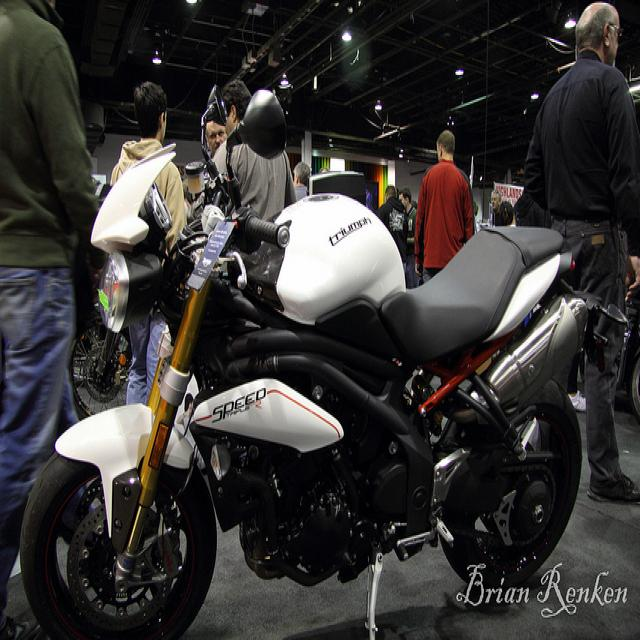motor: (18, 144, 628, 633), (67, 318, 132, 420)
